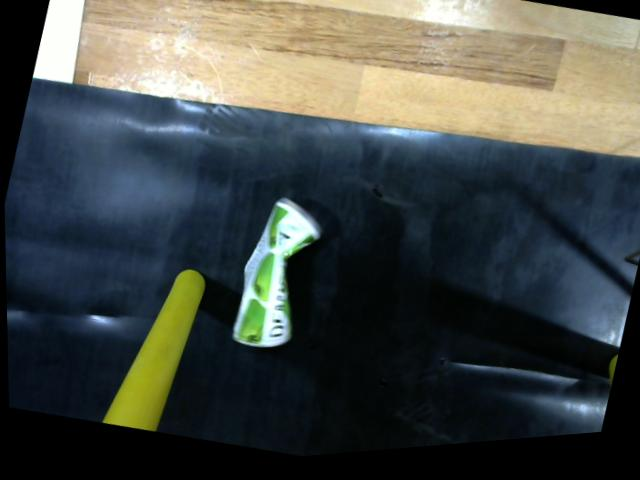can: (228, 198, 335, 356)
